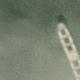ship: (53, 18, 80, 80)
